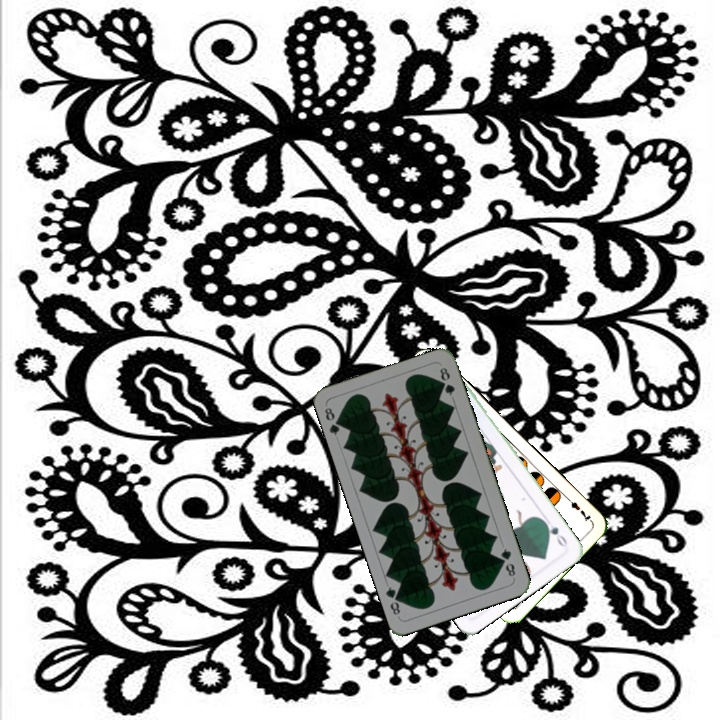E7: (561, 492, 594, 524)
G8: (320, 403, 346, 438), (497, 544, 518, 579)
GO: (539, 517, 570, 551)
